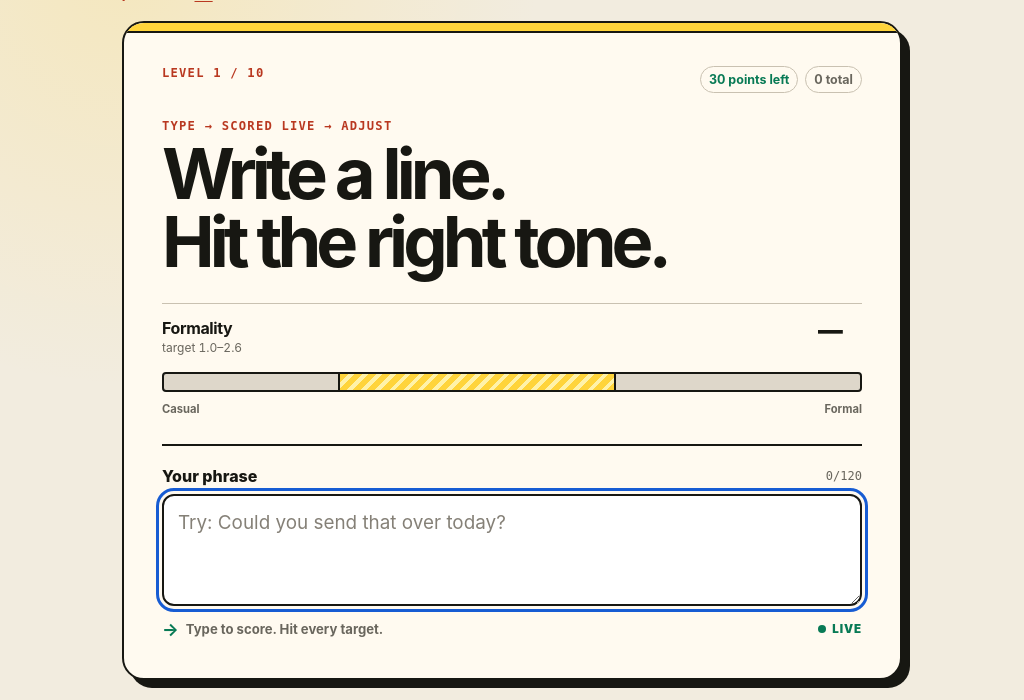
Test: live challenge play › keeps an unsuccessful refresh visibly and accessibly stale
The image size is (1024, 700).
Type "First draft" into the text box labelled "Your phrase" at {"x": 512, "y": 550}, box top-left (162, 494), bottom-right (862, 606)
Wait 650 ms
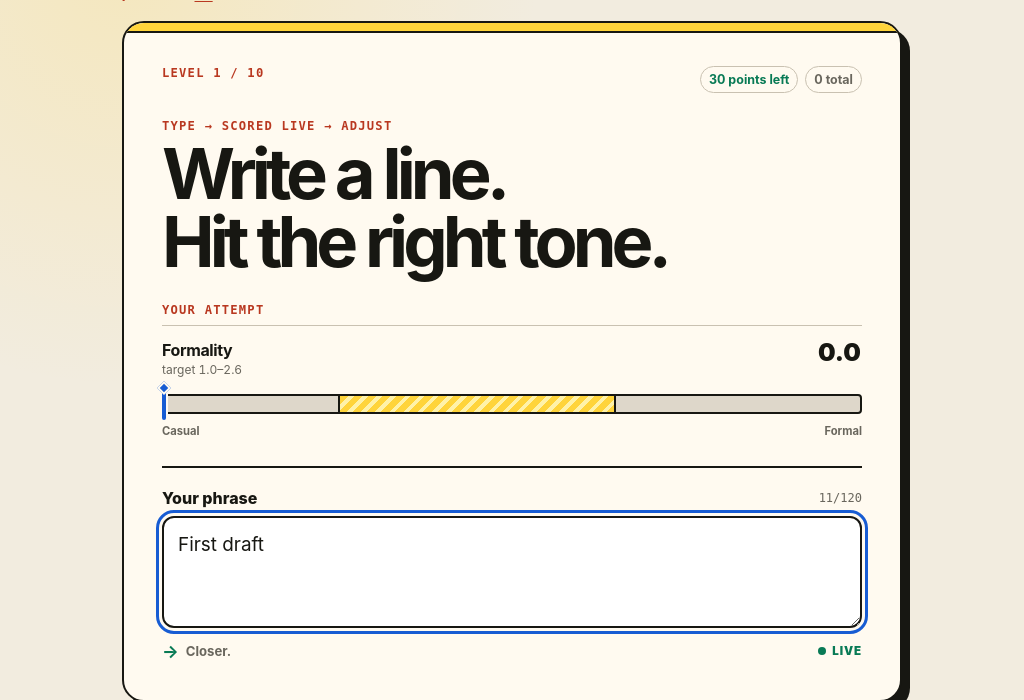
Replace the text in the text box labelled "Your phrase" with "Edited draft" at {"x": 512, "y": 572}, box top-left (162, 516), bottom-right (862, 628)
Wait 650 ms
(page scrolled)
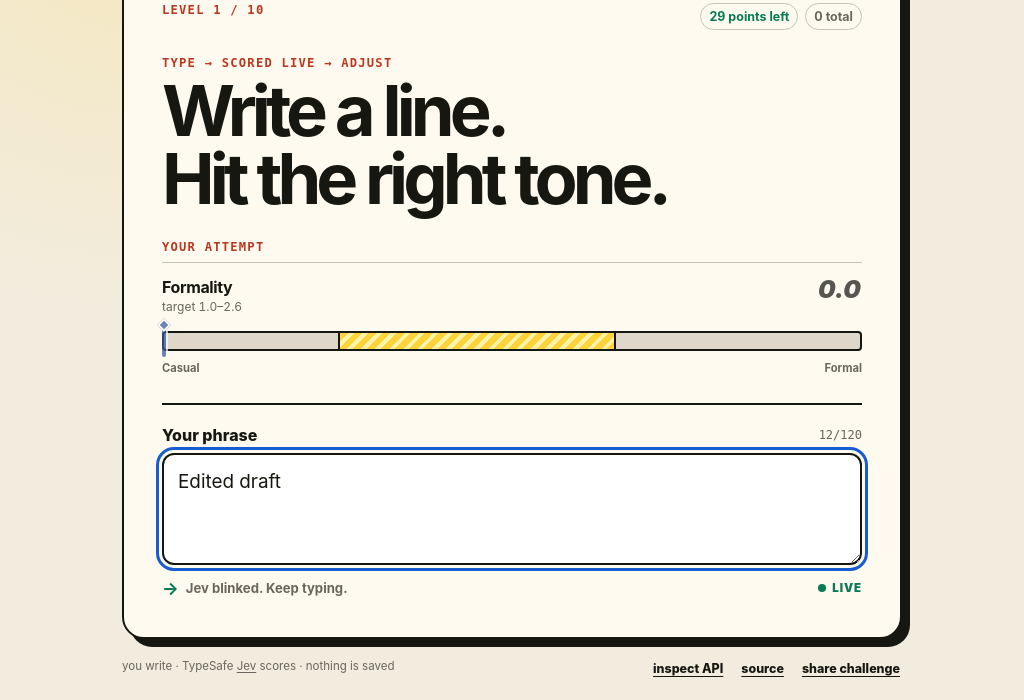
Now the element named "Tone targets" has class "has-stale-scores", box top-left (162, 262), bottom-right (862, 375)
Click the link "inspect API" at {"x": 688, "y": 668}, box top-left (651, 658), bottom-right (725, 678)
(page scrolled)
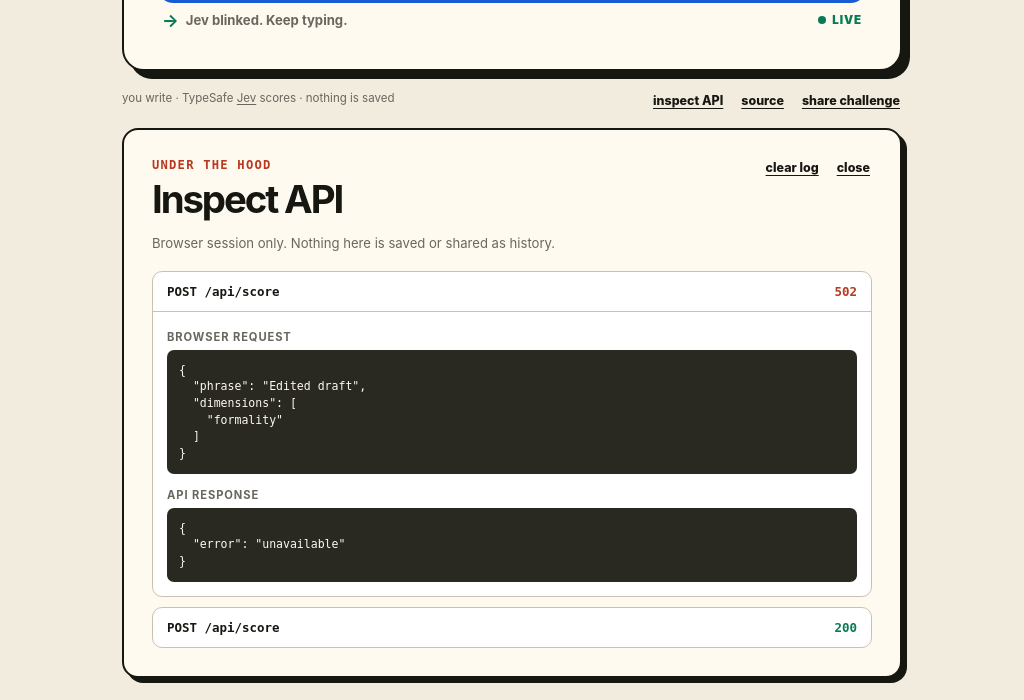
Now the text "502" is shown, box top-left (834, 284), bottom-right (857, 299)
Now the text "{ \"error\": \"unavailable\" }" is shown, box top-left (179, 521), bottom-right (345, 568)
